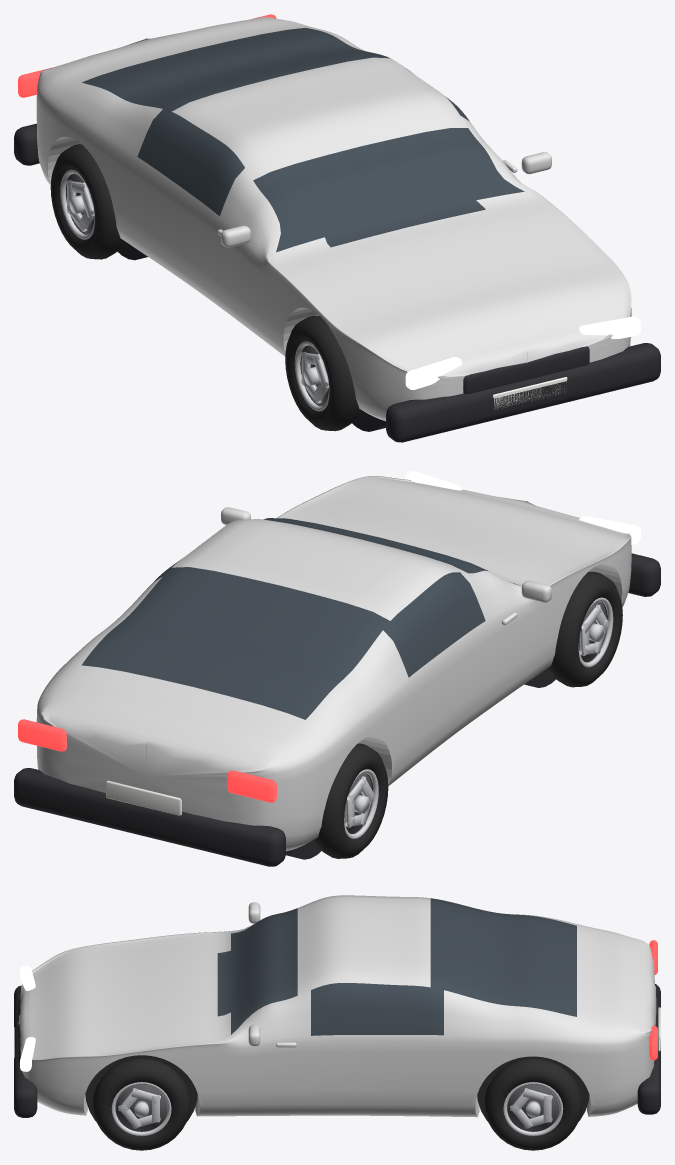
File: sports.glb
3 renders of one model, top to bottom at view 1: azimuth 30°, elevation 25°; view 2: azimuth 150°, elevation 25°; view 3: azimuth 270°, elevation 25°, orthographic. The views are drawn at different scales.
Parts seen in each view (by area): view 1: body, bumper_f, Torus, Torus.002, grille, head, head.001, bumper_r, plate_f; view 2: body, bumper_r, Torus, Torus.002, plate_r, bumper_f, tail, tail.001, head, Torus.003, Torus.001; view 3: body, Torus.004, Torus.006, bumper_f, bumper_r, Cylinder, Cylinder.008, Cylinder.006, Cylinder.001, Torus.005, Torus.007, head.001.
Part boxes in pixels (x1,y1,x2,y2): body: [36, 17, 631, 421]; bumper_f: [386, 343, 660, 442]; Torus: [285, 315, 359, 431]; Torus.002: [50, 144, 123, 259]; grille: [463, 346, 589, 394]; head: [405, 357, 462, 389]; head.001: [579, 316, 640, 338]; bumper_r: [14, 123, 39, 165]; plate_f: [493, 377, 567, 409]; body: [36, 476, 631, 851]; bumper_r: [14, 768, 285, 866]; Torus: [548, 572, 622, 687]; Torus.002: [314, 743, 388, 858]; plate_r: [106, 780, 181, 815]; bumper_f: [628, 553, 660, 596]; tail: [227, 770, 276, 802]; tail.001: [18, 719, 66, 751]; head: [579, 516, 640, 544]; Torus.003: [344, 769, 378, 838]; Torus.001: [578, 597, 613, 667]; body: [18, 895, 656, 1117]; Torus.004: [92, 1058, 190, 1150]; Torus.006: [484, 1058, 582, 1150]; bumper_f: [14, 985, 37, 1117]; bumper_r: [637, 984, 660, 1114]; Cylinder: [85, 1055, 197, 1120]; Cylinder.008: [507, 1084, 559, 1131]; Cylinder.006: [115, 1084, 167, 1131]; Cylinder.001: [477, 1056, 589, 1120]; Torus.005: [111, 1082, 171, 1136]; Torus.007: [503, 1082, 563, 1136]; head.001: [20, 1037, 35, 1071].
Size of the model in its own units: 2.18 by 1.3 by 4.46.
